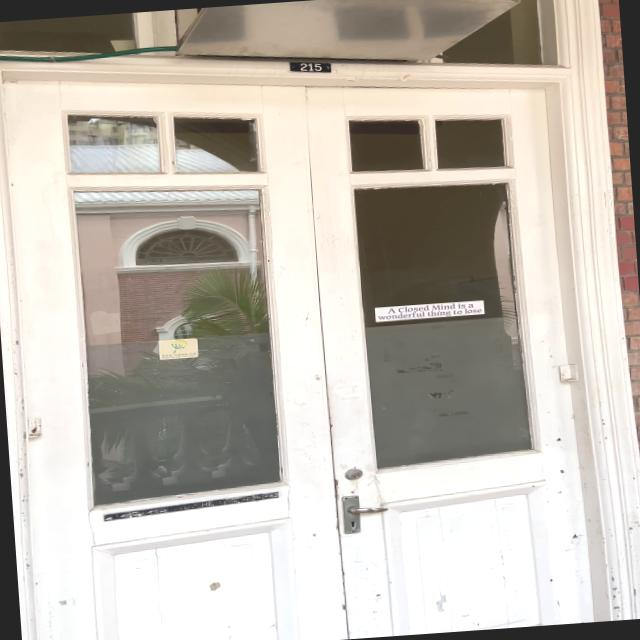room215: (288, 56, 333, 77)
